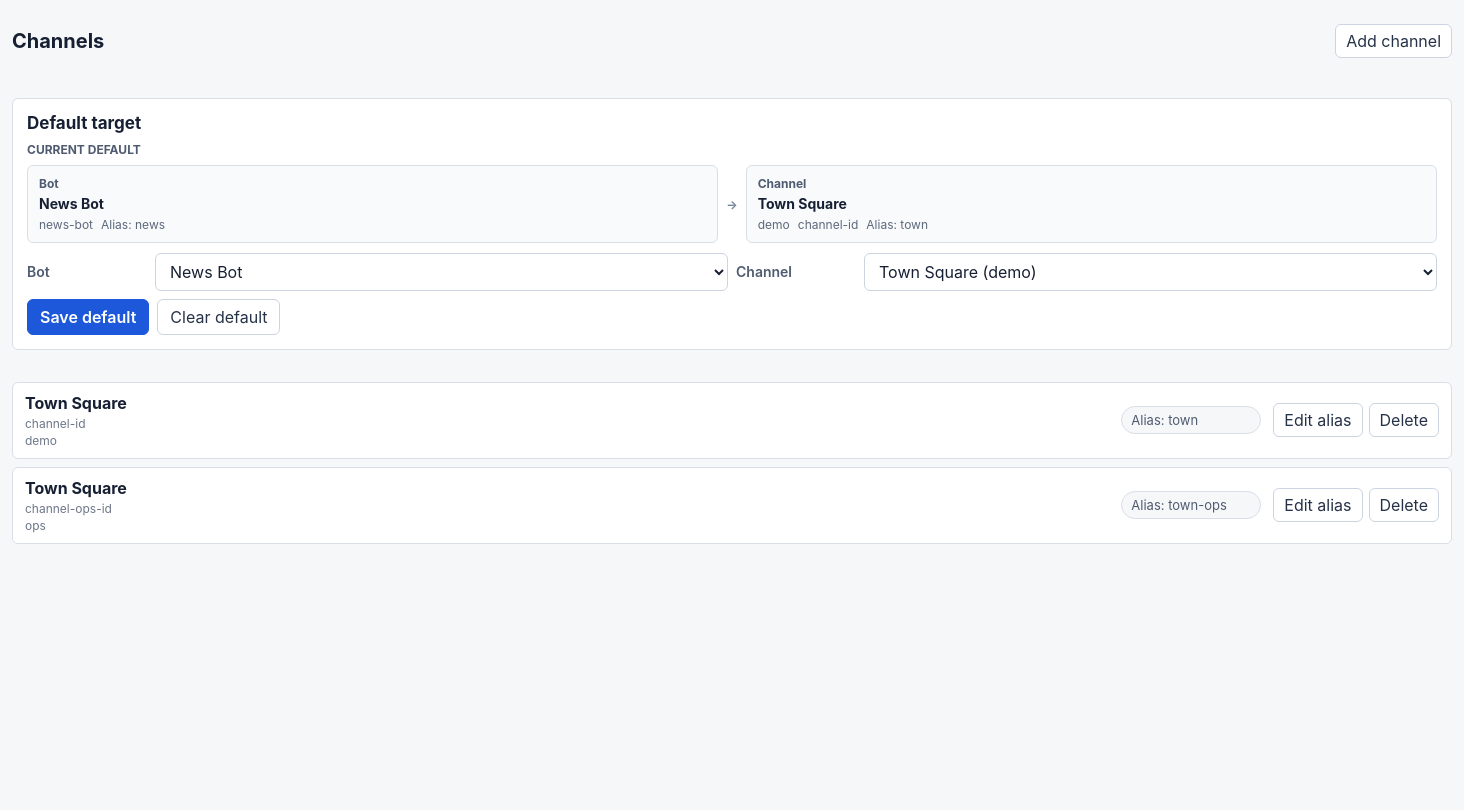
Test: TargetsPage › shows structured metadata for the current and selected default target
Check: the text "News Bot" is shown, box [39,195,104,212]
Check: the text "news-bot" is shown, box [39,217,93,232]
Select "alerts-bot" in the dropdown labelled "Bot" at (442, 272), box [155,253,728,291]
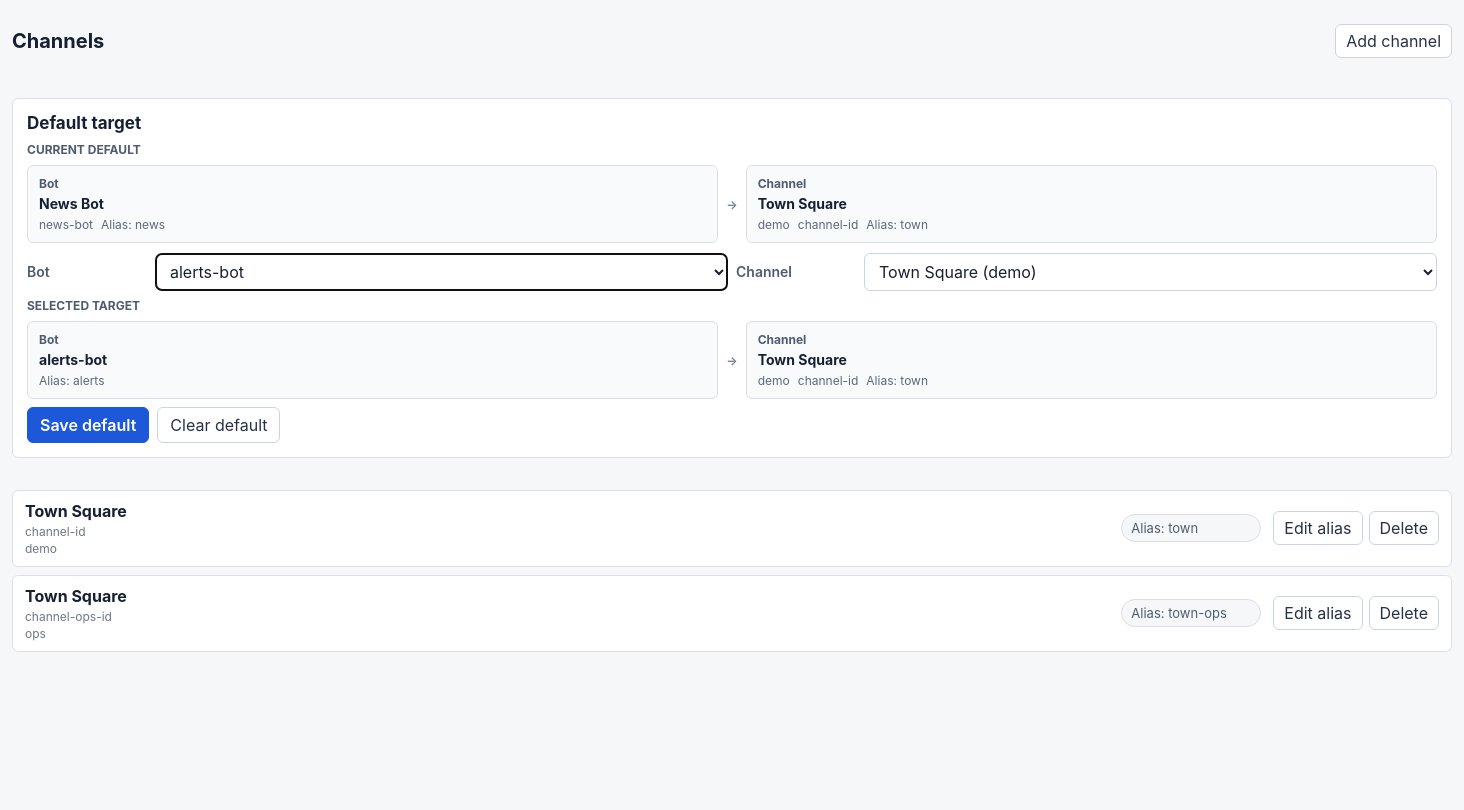
Select "Town Square (ops)" in the dropdown labelled "Channel" at (1150, 272), box [864,253,1437,291]
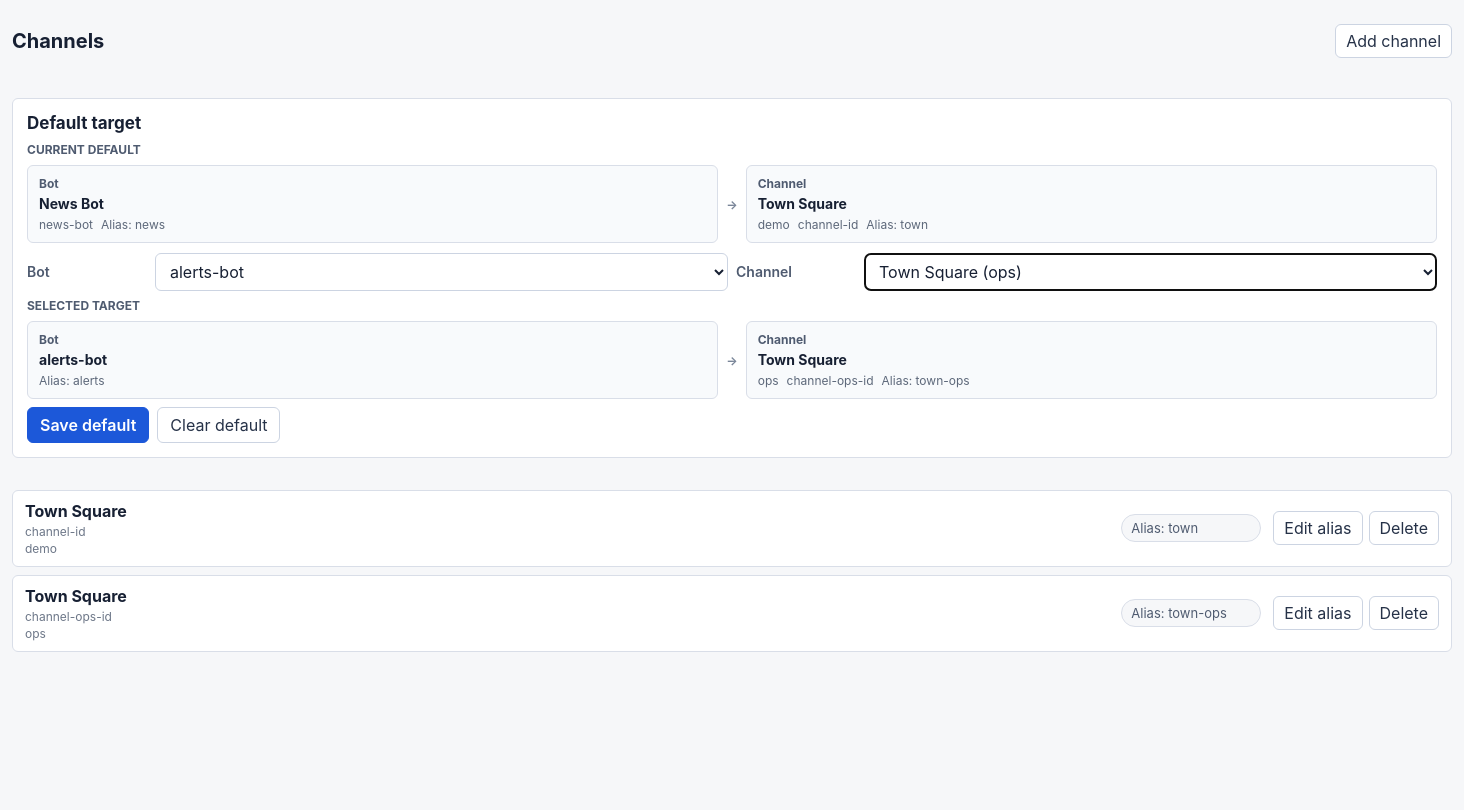
Check: the text "alerts-bot" is shown, box [39,351,107,368]
Check: the text "ops" in the row of "Alias: alerts" is shown, box [758,373,779,388]
Check: the text "channel-ops-id" in the row of "Alias: alerts" is shown, box [787,373,874,388]
